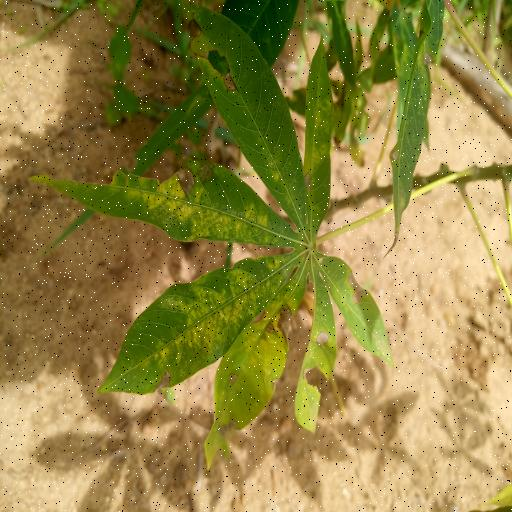Cassava_Mosaic: (32, 5, 396, 478)
